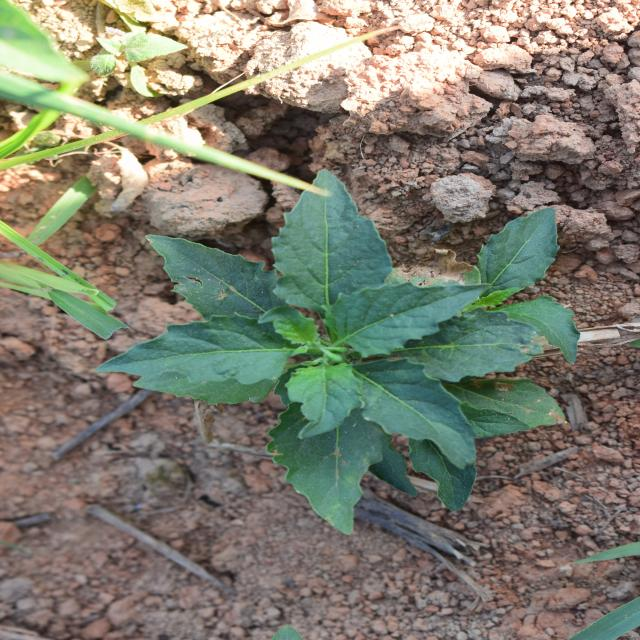Black_nightshade: (145, 144, 426, 541)
